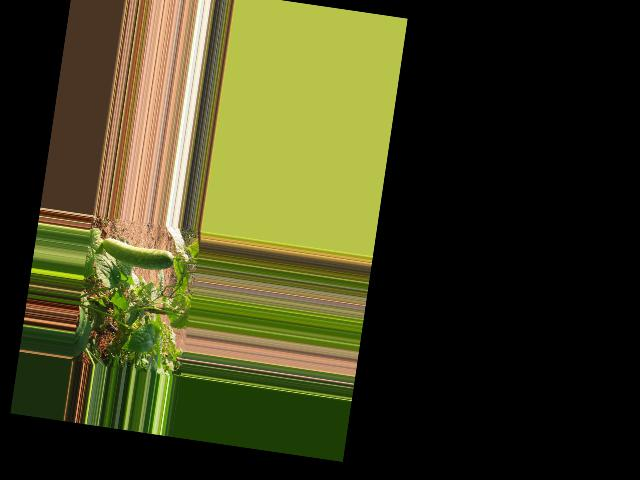cucumber: (99, 236, 175, 272)
